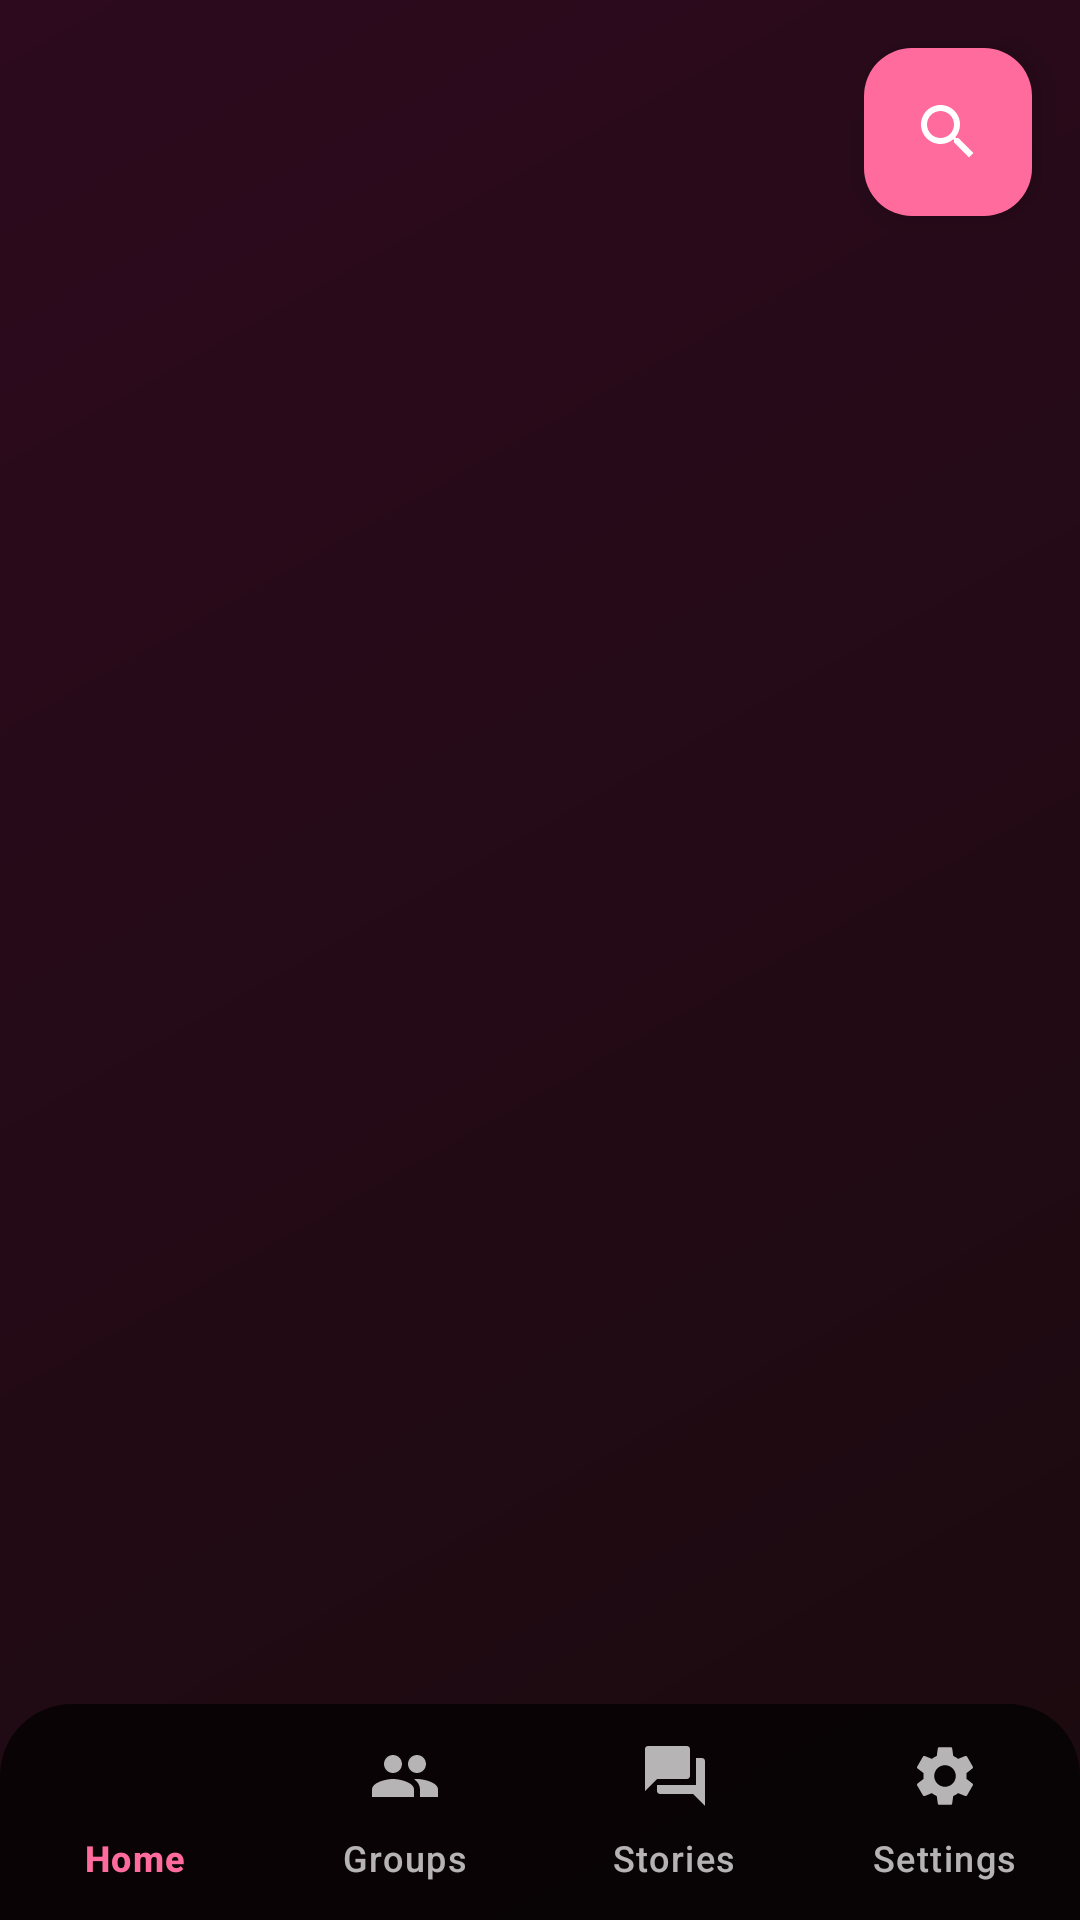

Icon click points for this 1080px x 1920px phone screenshot, format (x=x, y=y):
search: (x=948, y=132)
